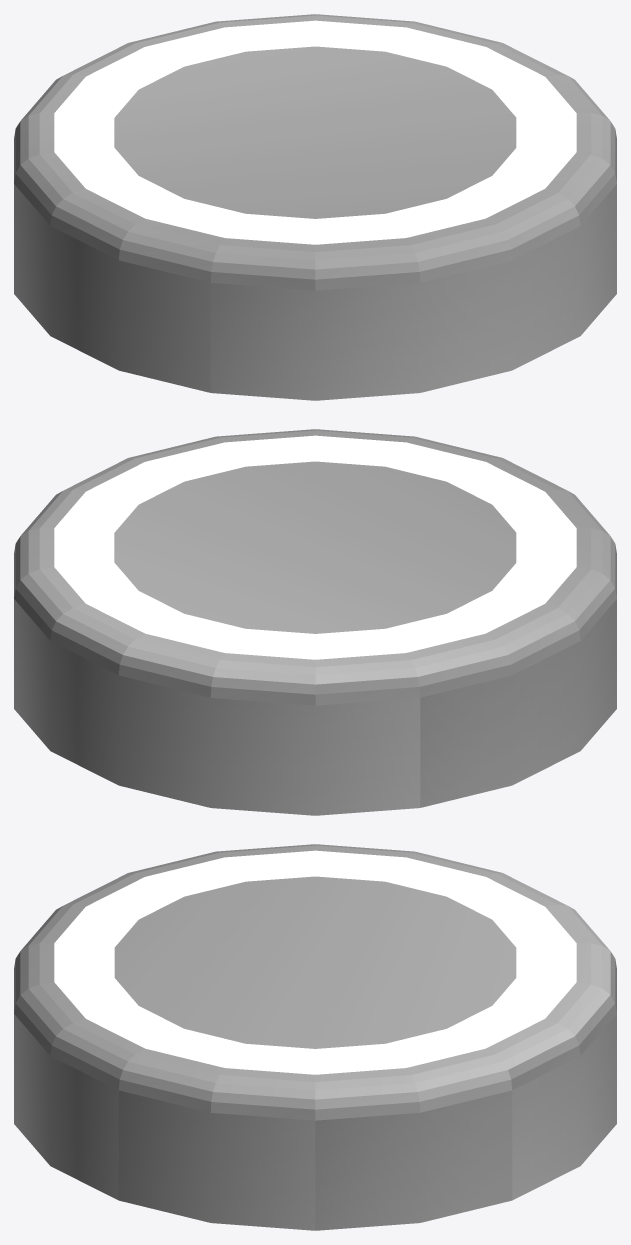
Rendered from Switch.FBX.
3 renders of one model, top to bottom at view 1: azimuth 30°, elevation 25°; view 2: azimuth 150°, elevation 25°; view 3: azimuth 270°, elevation 25°, orthographic.
Visible parts, largest first — view 1: Cylinder001; view 2: Cylinder001; view 3: Cylinder001.
Part boxes in pixels (x1,y1,x2,y2): Cylinder001: [14, 14, 616, 400]; Cylinder001: [14, 429, 616, 815]; Cylinder001: [14, 844, 616, 1230].
Bounding box in the file's own units: 20 × 19.7 × 5.
Materials: 1 (1 with a texture image).
